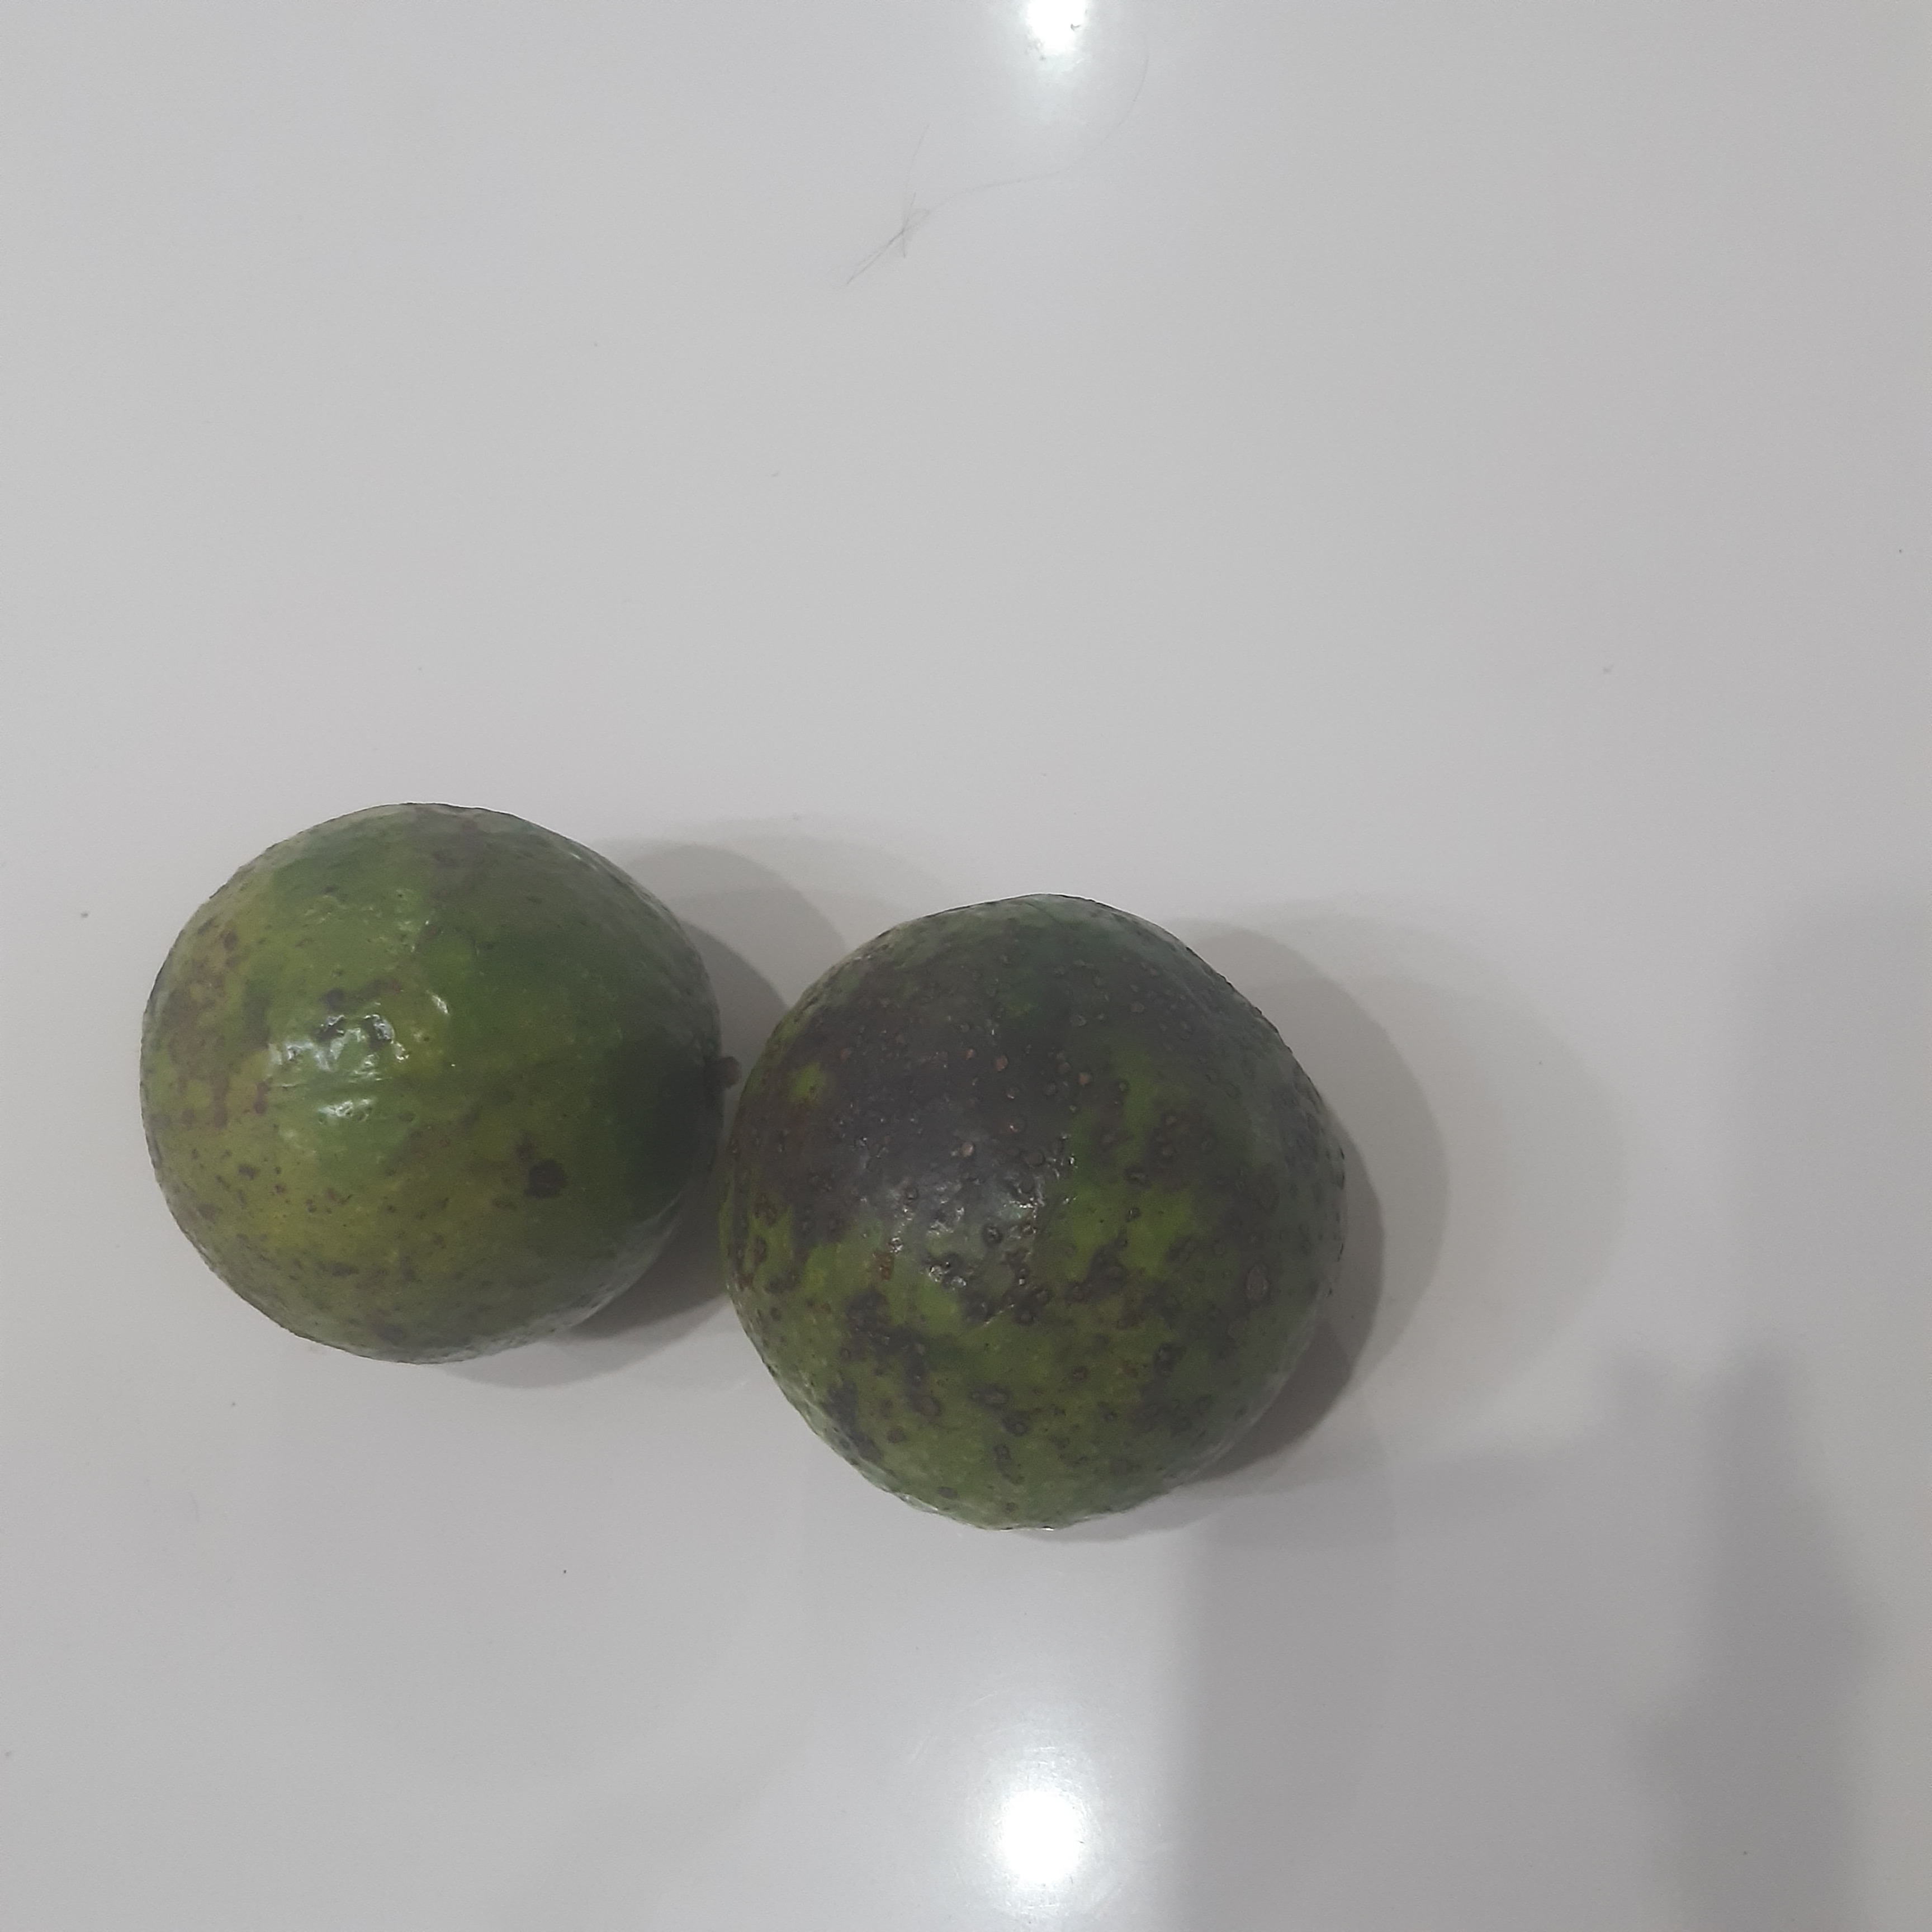Bo: (712, 893, 1347, 1537), (138, 802, 728, 1368)
